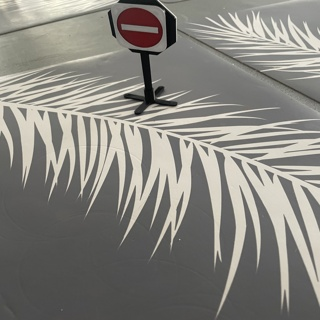sign_noentry: (112, 3, 164, 51)
